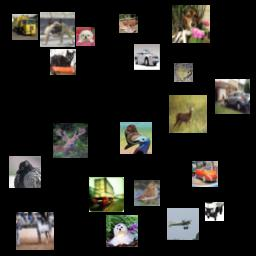airplane: (167, 208, 199, 240)
automobile: (215, 79, 250, 114), (134, 44, 160, 70), (192, 161, 218, 187)
bird: (120, 122, 152, 154), (9, 156, 41, 188), (134, 180, 160, 206)
cat: (40, 12, 75, 47), (50, 49, 76, 75)
deer: (169, 95, 207, 133), (53, 123, 88, 158), (119, 14, 138, 33)
dog: (172, 5, 210, 43), (106, 215, 138, 247), (76, 27, 95, 46)
frog: (174, 63, 193, 82)
truck: (89, 177, 124, 212), (12, 14, 38, 40), (205, 202, 224, 221)
